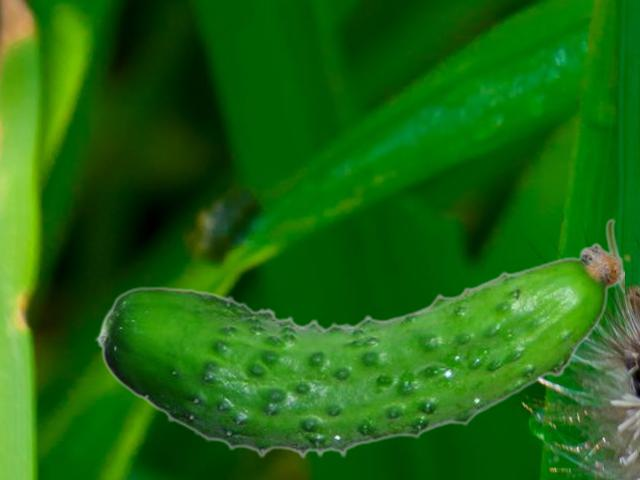cucumber: (94, 218, 623, 458)
